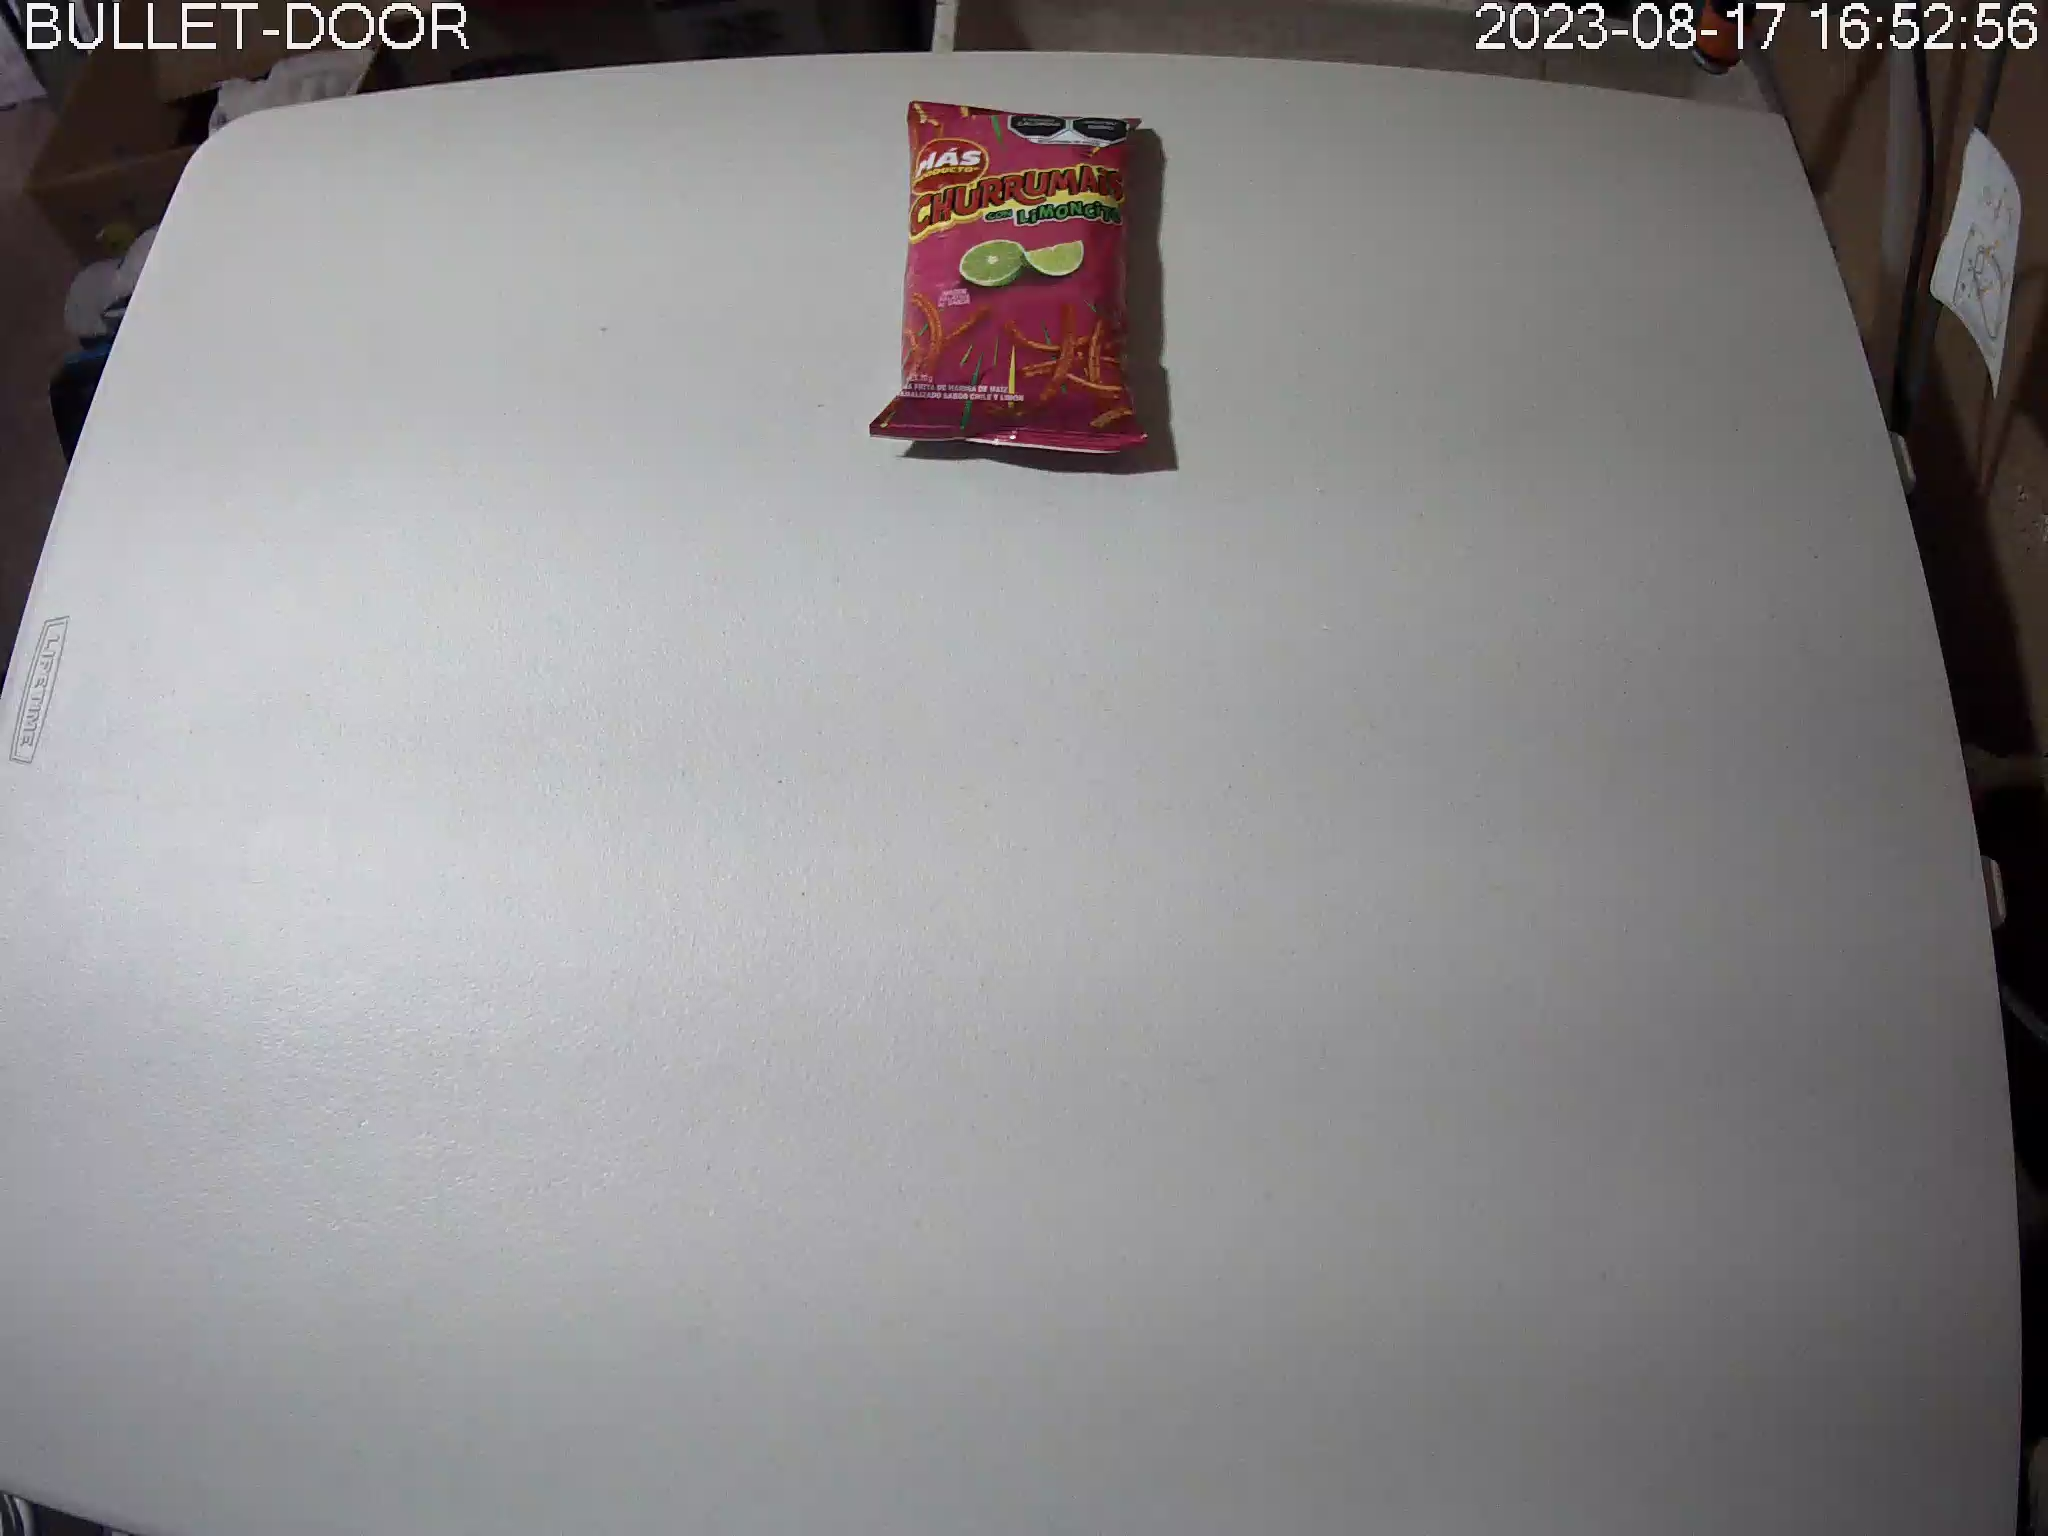Churrumais_70_F: (869, 100, 1159, 455)
